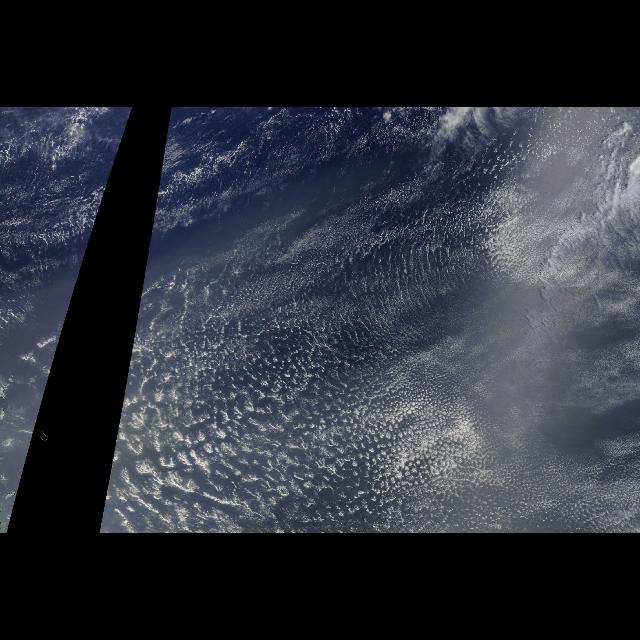Sugar: (130, 125, 638, 531)
